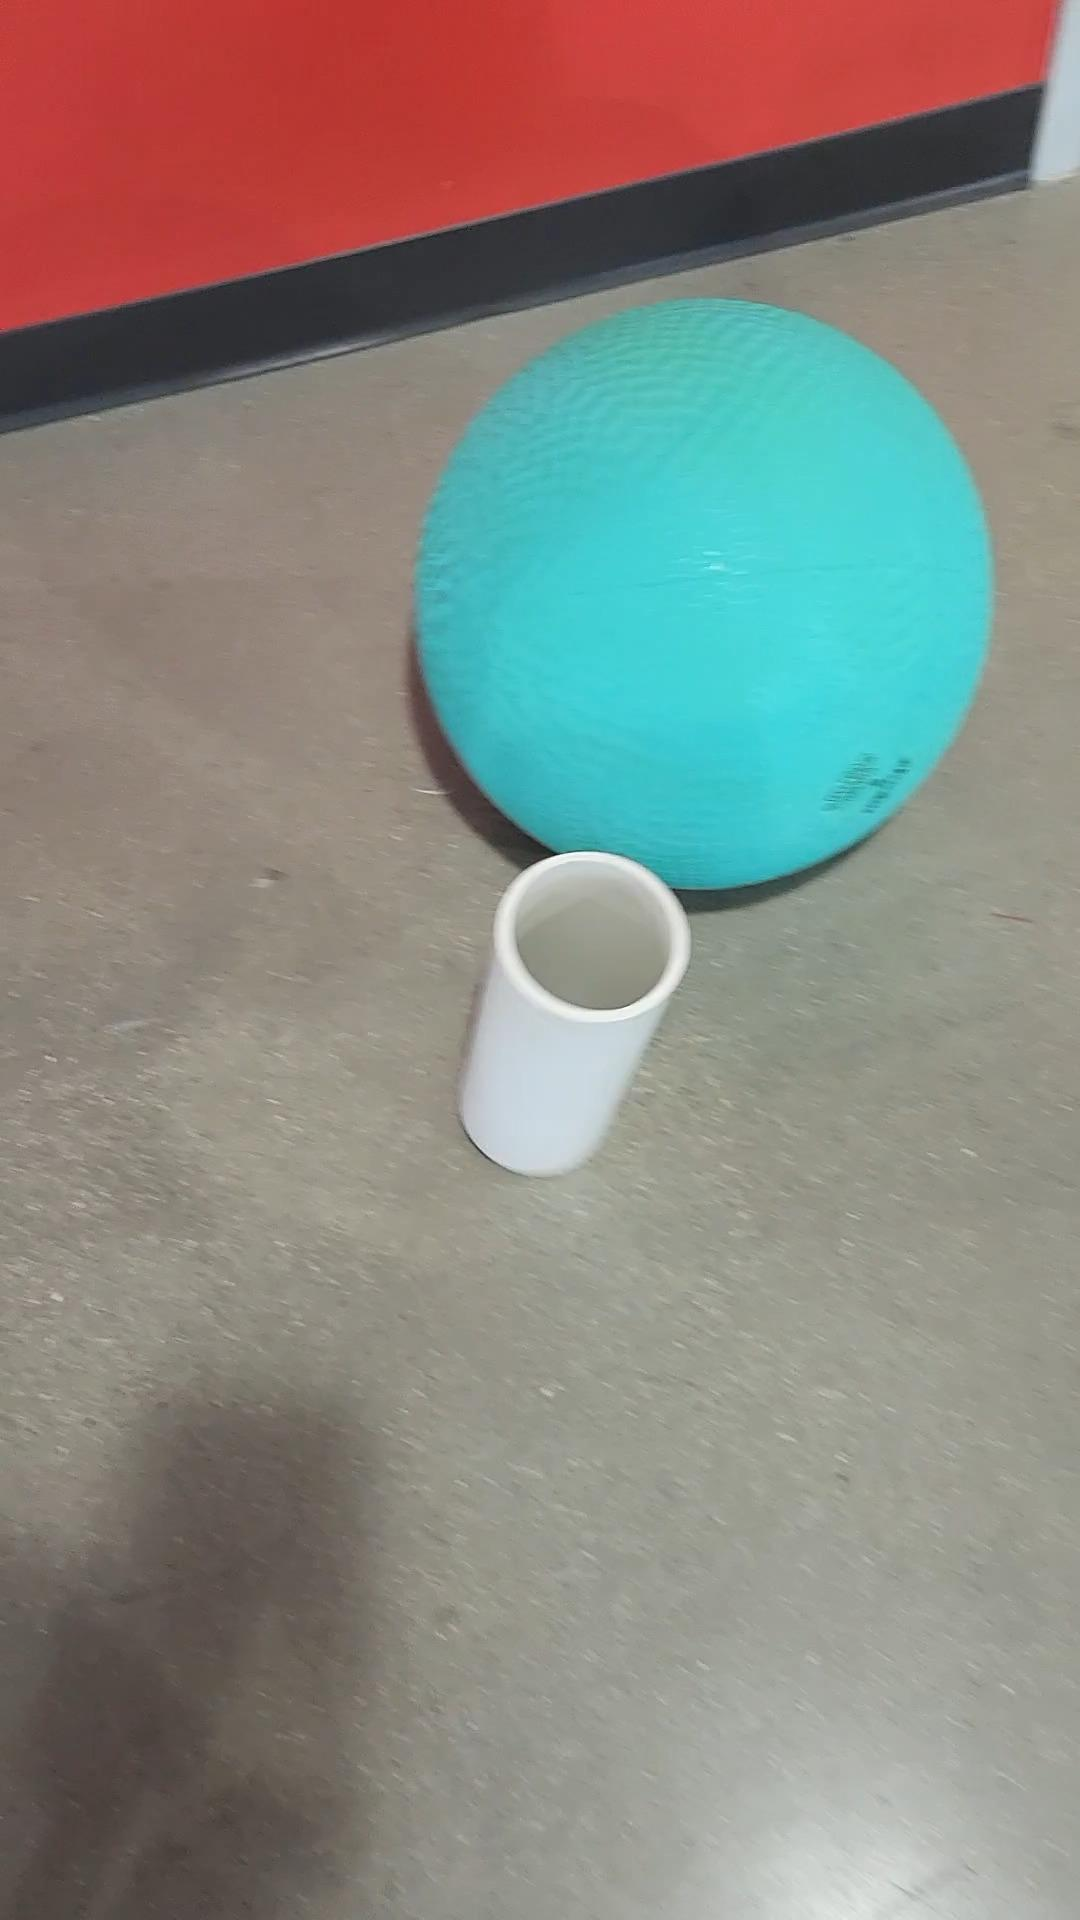algae: (396, 286, 998, 885)
coral: (336, 847, 711, 1217)
